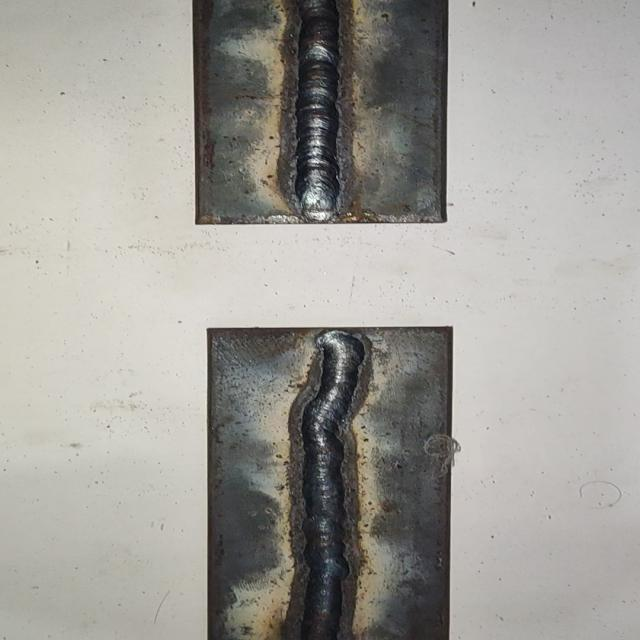Welding Line: (294, 331, 372, 640), (294, 0, 341, 218)
Workpiece: (198, 320, 468, 640), (190, 0, 455, 228)
